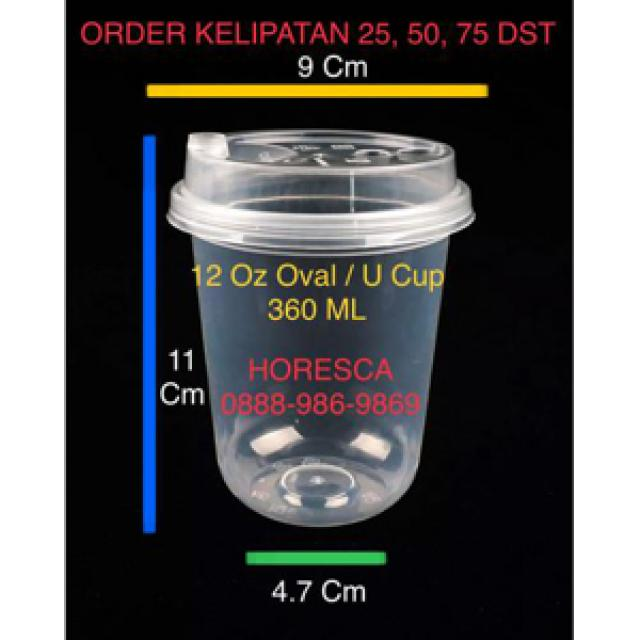plastic cup: (158, 124, 480, 535)
